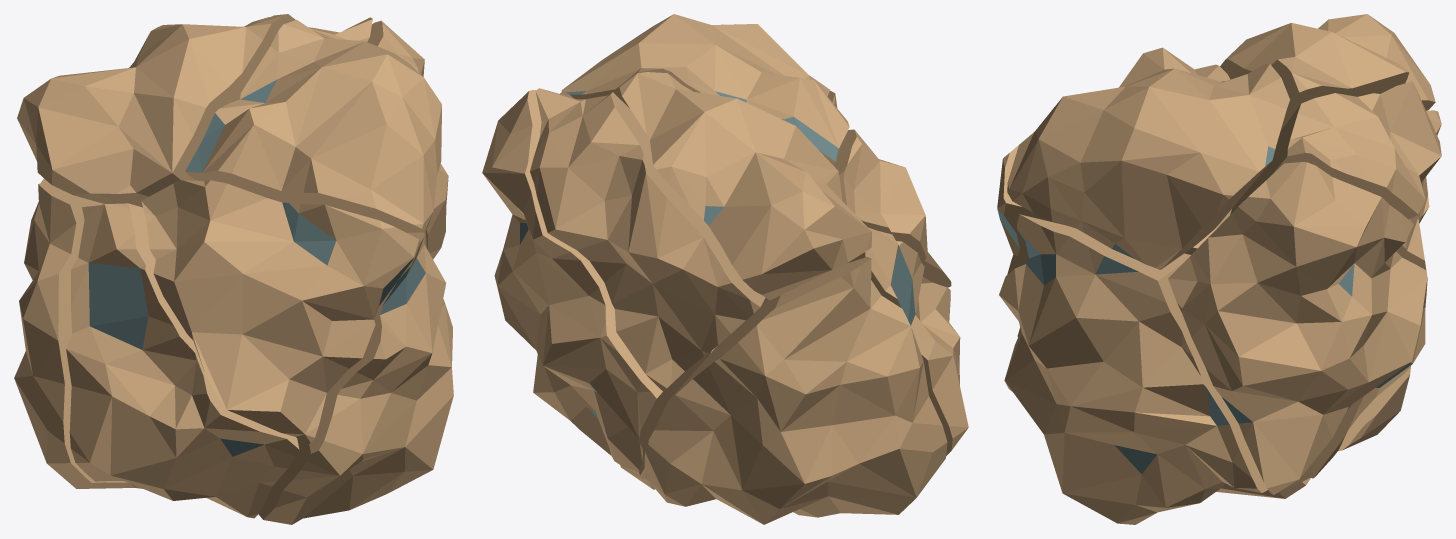
The model's file is SM_LP_MetalNode_6_Pieces.fbx.
The picture shows the model from 3 angles, left to right: view 1: azimuth 30°, elevation 25°; view 2: azimuth 150°, elevation 25°; view 3: azimuth 270°, elevation 25°; orthographic projection. The views are drawn at different scales.
Parts seen in each view (by area): view 1: SM_LP_MetalNode_6_Pieces_4, SM_LP_MetalNode_6_Pieces_1, SM_LP_MetalNode_6_Pieces_6, SM_LP_MetalNode_6_Pieces_3, SM_LP_MetalNode_6_Pieces_7, SM_LP_MetalNode_6_Pieces_2, SM_LP_MetalNode_6_Pieces_8, SM_LP_MetalNode_6_Pieces_5; view 2: SM_LP_MetalNode_6_Pieces_2, SM_LP_MetalNode_6_Pieces_5, SM_LP_MetalNode_6_Pieces_3, SM_LP_MetalNode_6_Pieces_8, SM_LP_MetalNode_6_Pieces_6, SM_LP_MetalNode_6_Pieces_1, SM_LP_MetalNode_6_Pieces_4; view 3: SM_LP_MetalNode_6_Pieces_8, SM_LP_MetalNode_6_Pieces_7, SM_LP_MetalNode_6_Pieces_6, SM_LP_MetalNode_6_Pieces_5, SM_LP_MetalNode_6_Pieces_3, SM_LP_MetalNode_6_Pieces_2, SM_LP_MetalNode_6_Pieces_4.
Boxes of the visible parts, x1=… form: SM_LP_MetalNode_6_Pieces_4: x1=141, y1=180, x2=420, y2=445; SM_LP_MetalNode_6_Pieces_1: x1=66, y1=203, x2=299, y2=518; SM_LP_MetalNode_6_Pieces_6: x1=185, y1=20, x2=441, y2=232; SM_LP_MetalNode_6_Pieces_3: x1=17, y1=14, x2=295, y2=207; SM_LP_MetalNode_6_Pieces_7: x1=258, y1=231, x2=453, y2=524; SM_LP_MetalNode_6_Pieces_2: x1=14, y1=178, x2=142, y2=488; SM_LP_MetalNode_6_Pieces_8: x1=367, y1=20, x2=448, y2=259; SM_LP_MetalNode_6_Pieces_5: x1=244, y1=17, x2=372, y2=41; SM_LP_MetalNode_6_Pieces_2: x1=644, y1=257, x2=947, y2=524; SM_LP_MetalNode_6_Pieces_5: x1=530, y1=88, x2=765, y2=391; SM_LP_MetalNode_6_Pieces_3: x1=619, y1=72, x2=871, y2=300; SM_LP_MetalNode_6_Pieces_8: x1=482, y1=90, x2=711, y2=474; SM_LP_MetalNode_6_Pieces_6: x1=560, y1=14, x2=849, y2=164; SM_LP_MetalNode_6_Pieces_1: x1=763, y1=227, x2=968, y2=455; SM_LP_MetalNode_6_Pieces_4: x1=827, y1=90, x2=951, y2=287; SM_LP_MetalNode_6_Pieces_8: x1=1168, y1=162, x2=1427, y2=494; SM_LP_MetalNode_6_Pieces_7: x1=999, y1=214, x2=1310, y2=524; SM_LP_MetalNode_6_Pieces_6: x1=1007, y1=47, x2=1289, y2=269; SM_LP_MetalNode_6_Pieces_5: x1=1230, y1=81, x2=1441, y2=269; SM_LP_MetalNode_6_Pieces_3: x1=1220, y1=14, x2=1435, y2=130; SM_LP_MetalNode_6_Pieces_2: x1=1338, y1=196, x2=1429, y2=451; SM_LP_MetalNode_6_Pieces_4: x1=997, y1=145, x2=1231, y2=336.
Bounding box in the file's own units: 0.8889 × 0.9103 × 0.7955.
